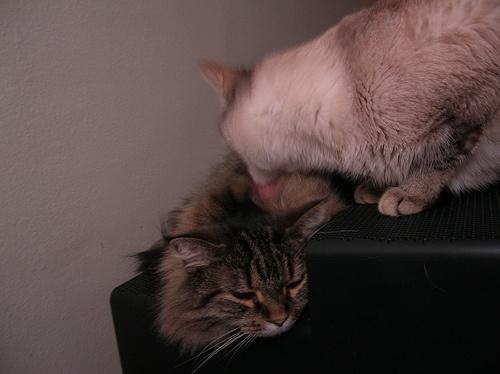cat: (197, 2, 500, 217), (128, 153, 334, 373)
